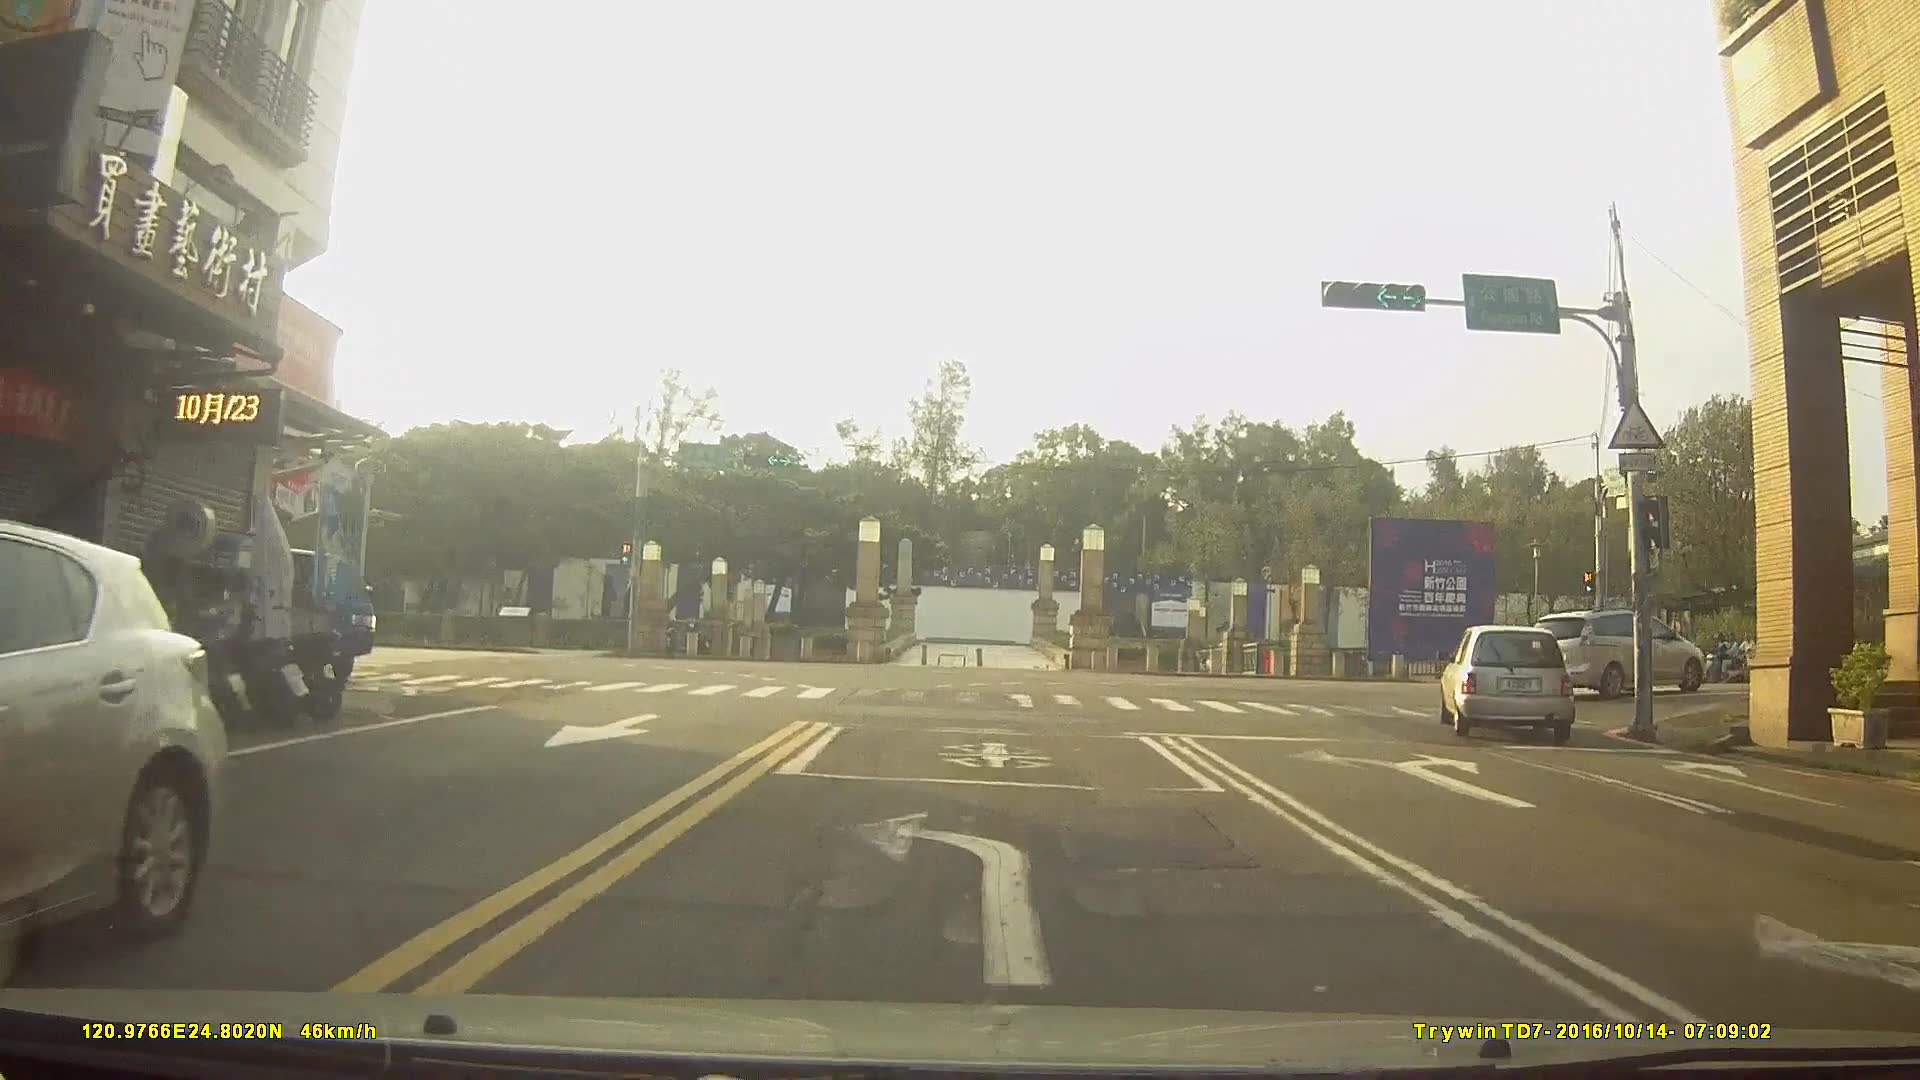vehicle: (0, 513, 225, 943), (1437, 621, 1578, 741), (1532, 607, 1704, 698)
